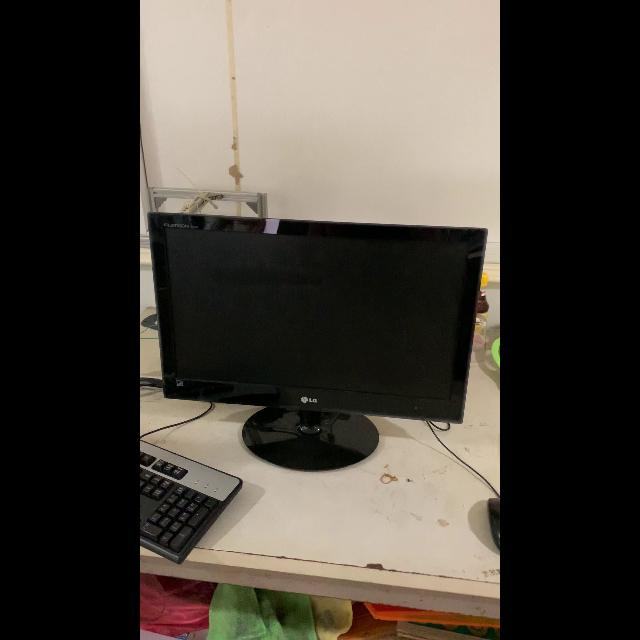Flat-Panel-Monitor: (140, 200, 496, 480)
